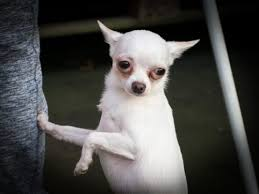chihuahua: (35, 18, 201, 194)
